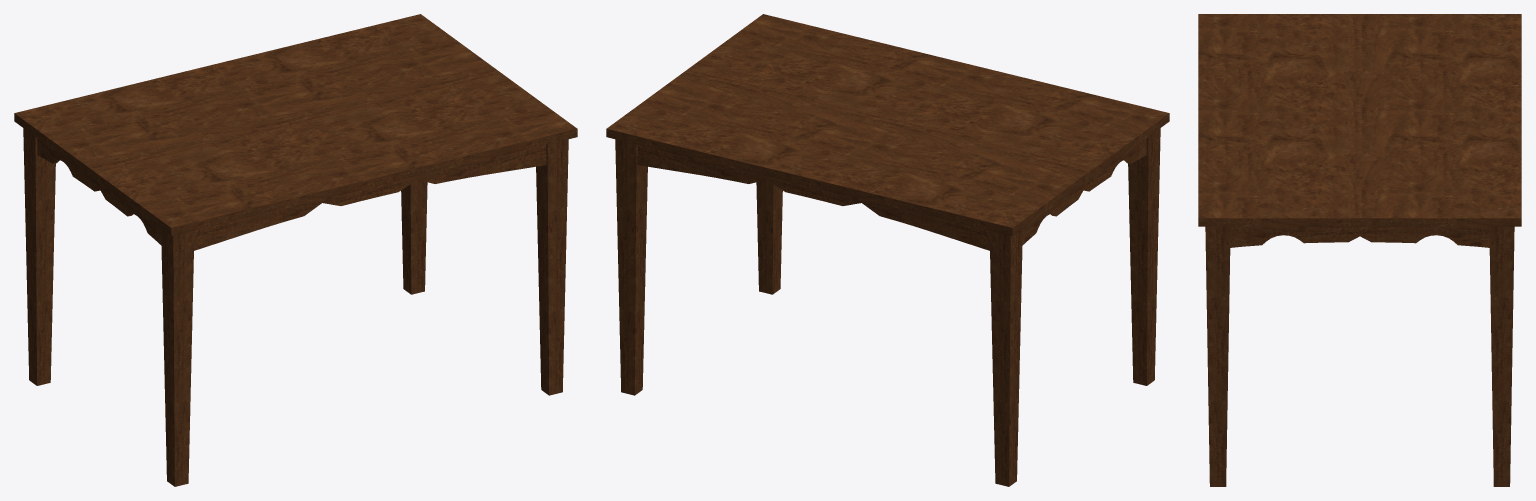
File: JDTable.fbx
The picture shows the model from 3 angles, left to right: view 1: azimuth 30°, elevation 25°; view 2: azimuth 150°, elevation 25°; view 3: azimuth 270°, elevation 25°; orthographic projection. The views are drawn at different scales.
Visible parts, largest first — view 1: Plane, Cube; view 2: Plane, Cube; view 3: Plane, Cube.
Boxes of the visible parts, <box> form: Plane: <box>14,14,577,250</box>; Cube: <box>23,128,568,486</box>; Plane: <box>606,14,1169,250</box>; Cube: <box>615,128,1160,486</box>; Plane: <box>1198,14,1521,247</box>; Cube: <box>1205,226,1514,486</box>.
Size of the model in its own units: 200 by 125 by 134.
